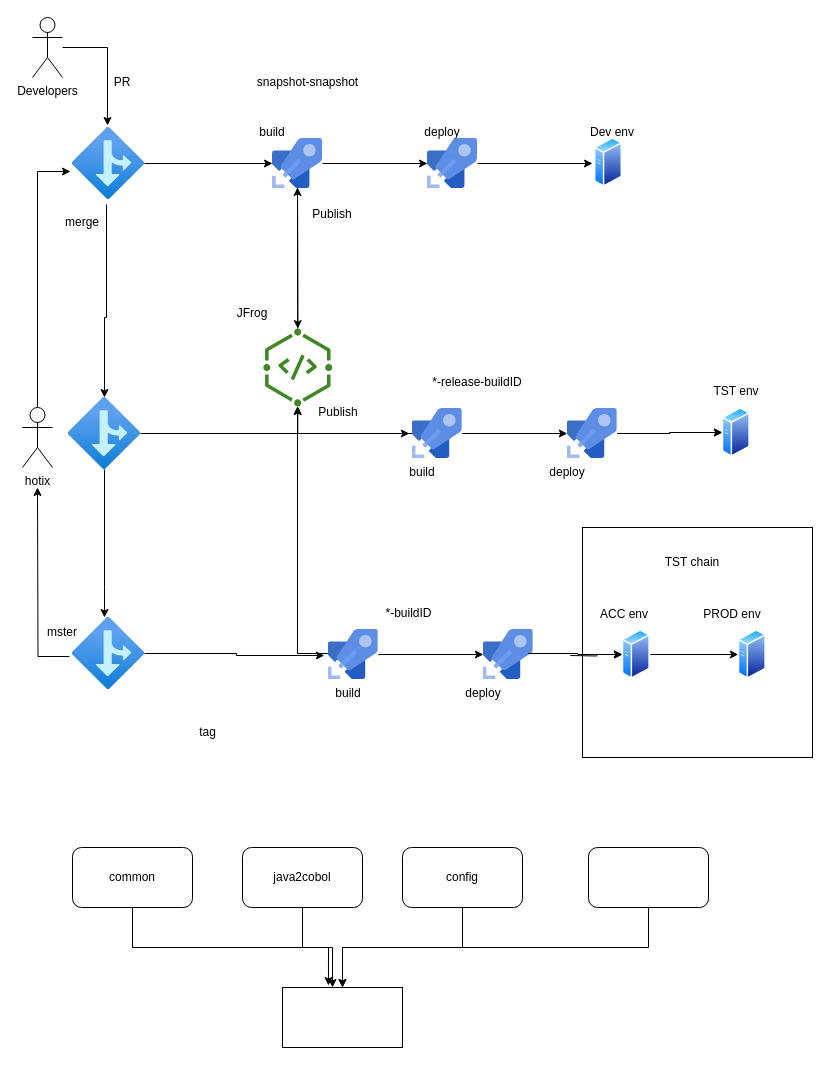
The diagram is 830 pixels wide and 1065 high, and some of its shapes have lost their labels. The shapes that lost their labels are listed below. From the top down, each one's centre as x and y in pixels, then its label:
At point 108,163: "develop".
At point 104,433: "release".
